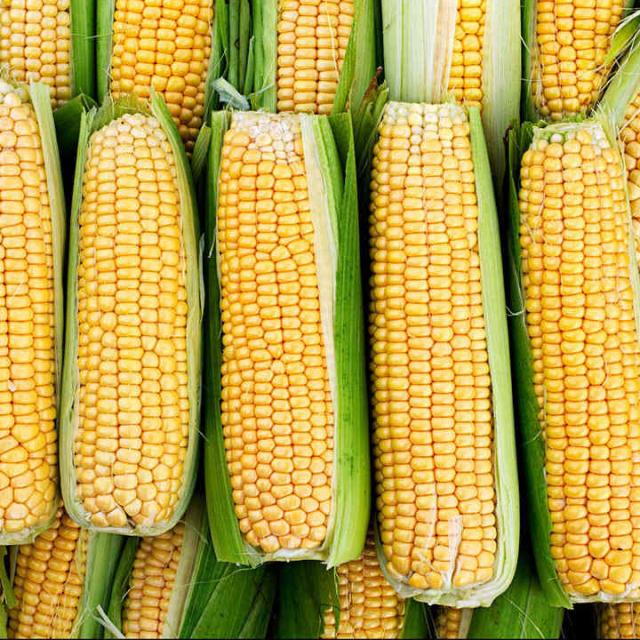corn: (201, 103, 378, 567), (365, 105, 516, 613), (498, 120, 640, 619), (65, 108, 196, 540)
